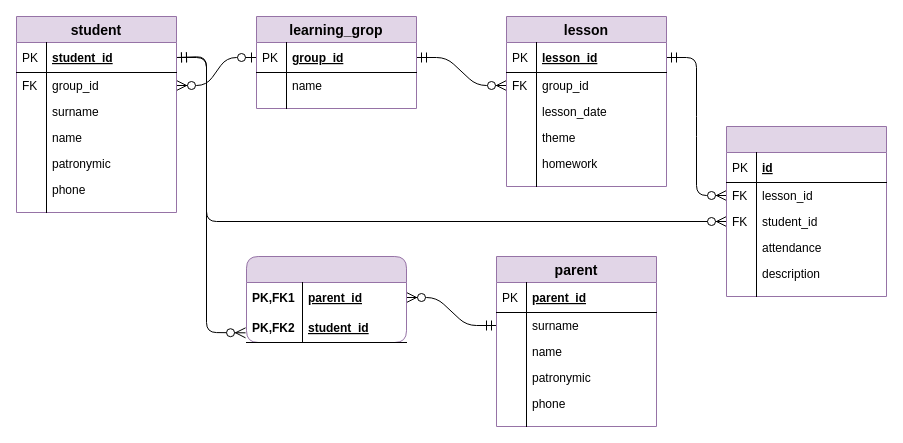
The diagram is 903 pixels wide and 443 high, and some of its shapes have lost their labels. The shapes that lost their labels are listed below. From the top down, each one's box as (x1, y1, x2, y2) in pixels, then its label:
(726, 126, 886, 296): lesson_data
(246, 256, 406, 342): parent_student
